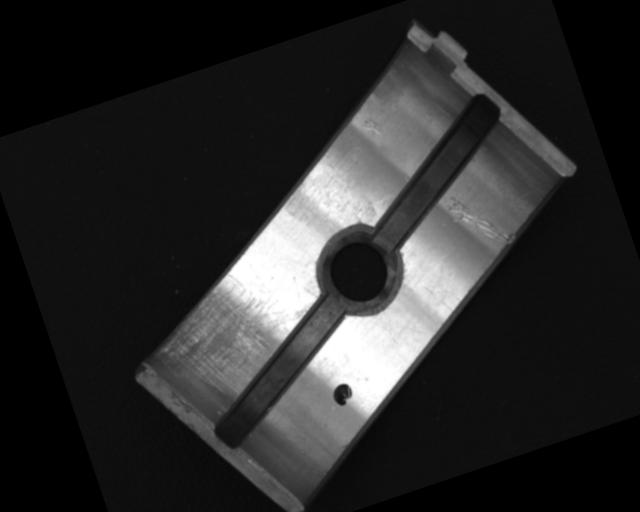blot: (329, 381, 356, 409)
bruise: (358, 114, 383, 142)
gap: (342, 89, 532, 252), (185, 293, 372, 449)
hole: (307, 216, 414, 324)
nick: (442, 181, 517, 261)
scratch: (137, 249, 323, 415)
